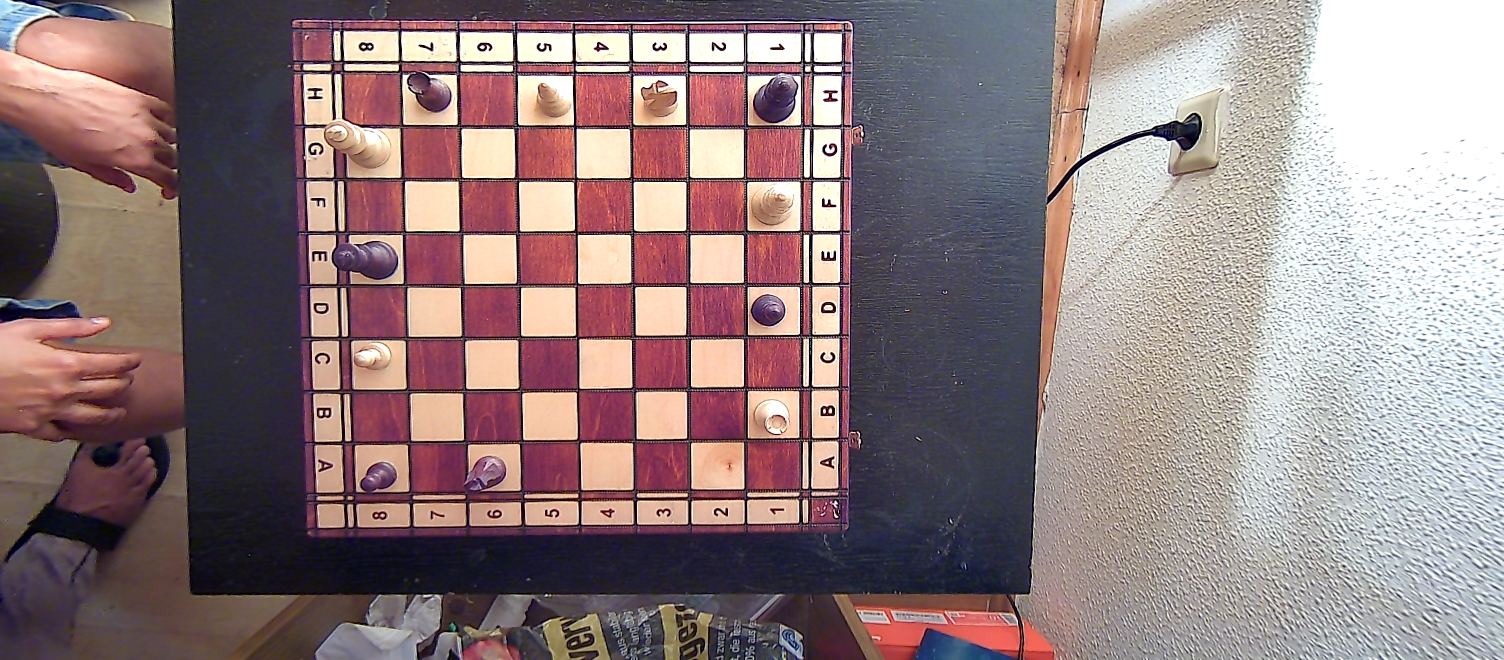black-bishop: (749, 293, 787, 330)
black-king: (328, 238, 400, 282)
black-knight: (462, 456, 505, 493)
black-pawn: (353, 459, 402, 497)
black-queen: (750, 70, 799, 122)
black-rook: (403, 72, 453, 115)
white-bishop: (532, 74, 572, 121)
white-king: (320, 116, 394, 173)
white-knight: (635, 75, 684, 123)
white-pawn: (349, 341, 393, 375)
white-queen: (748, 183, 799, 226)
white-rook: (750, 396, 794, 439)
